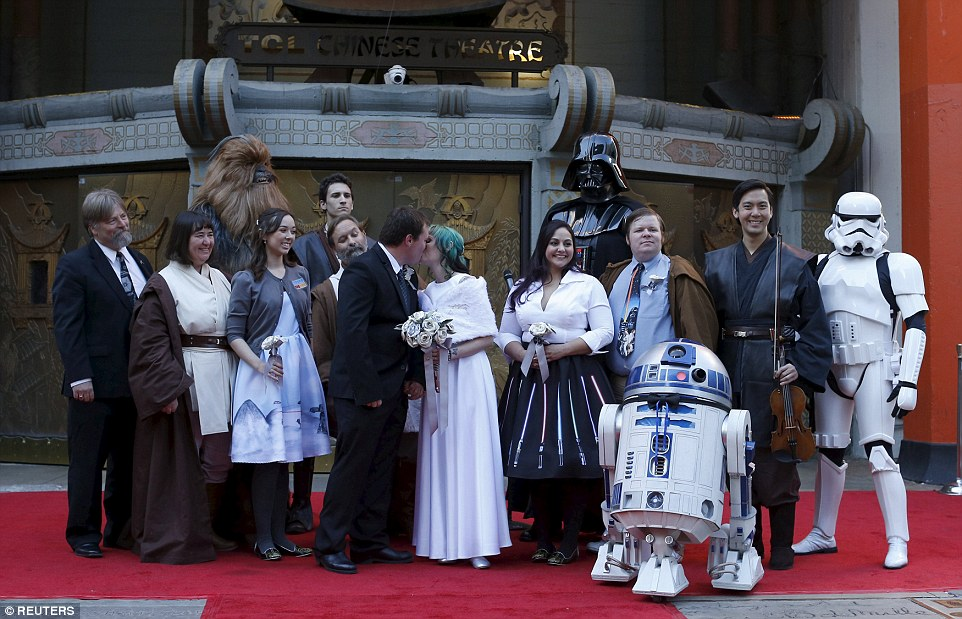r2d2: (590, 337, 765, 598)
